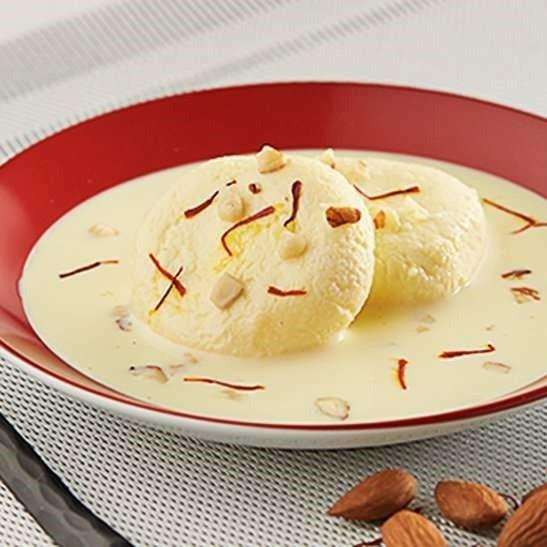RasMalai: (18, 146, 547, 427)
